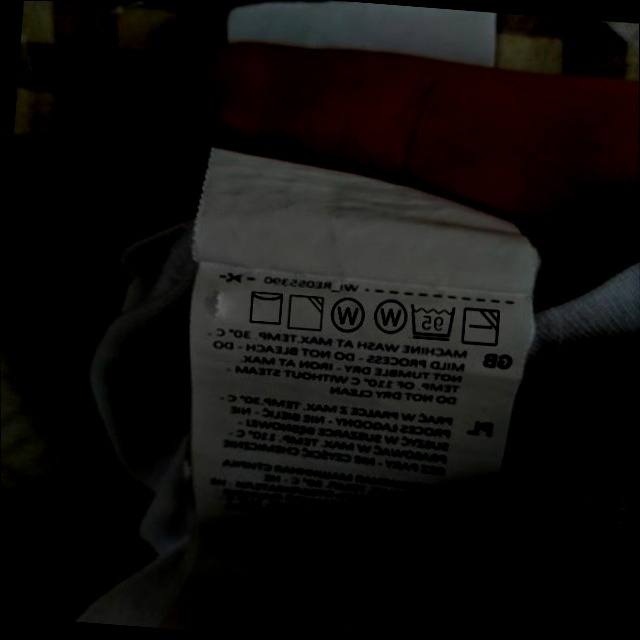95C: (407, 301, 458, 342)
dry_flat_in_shade: (460, 304, 503, 349)
line_dry: (244, 286, 286, 327)
shade_dry: (285, 291, 326, 333)
wet_clean: (370, 294, 408, 337), (328, 295, 367, 336)
